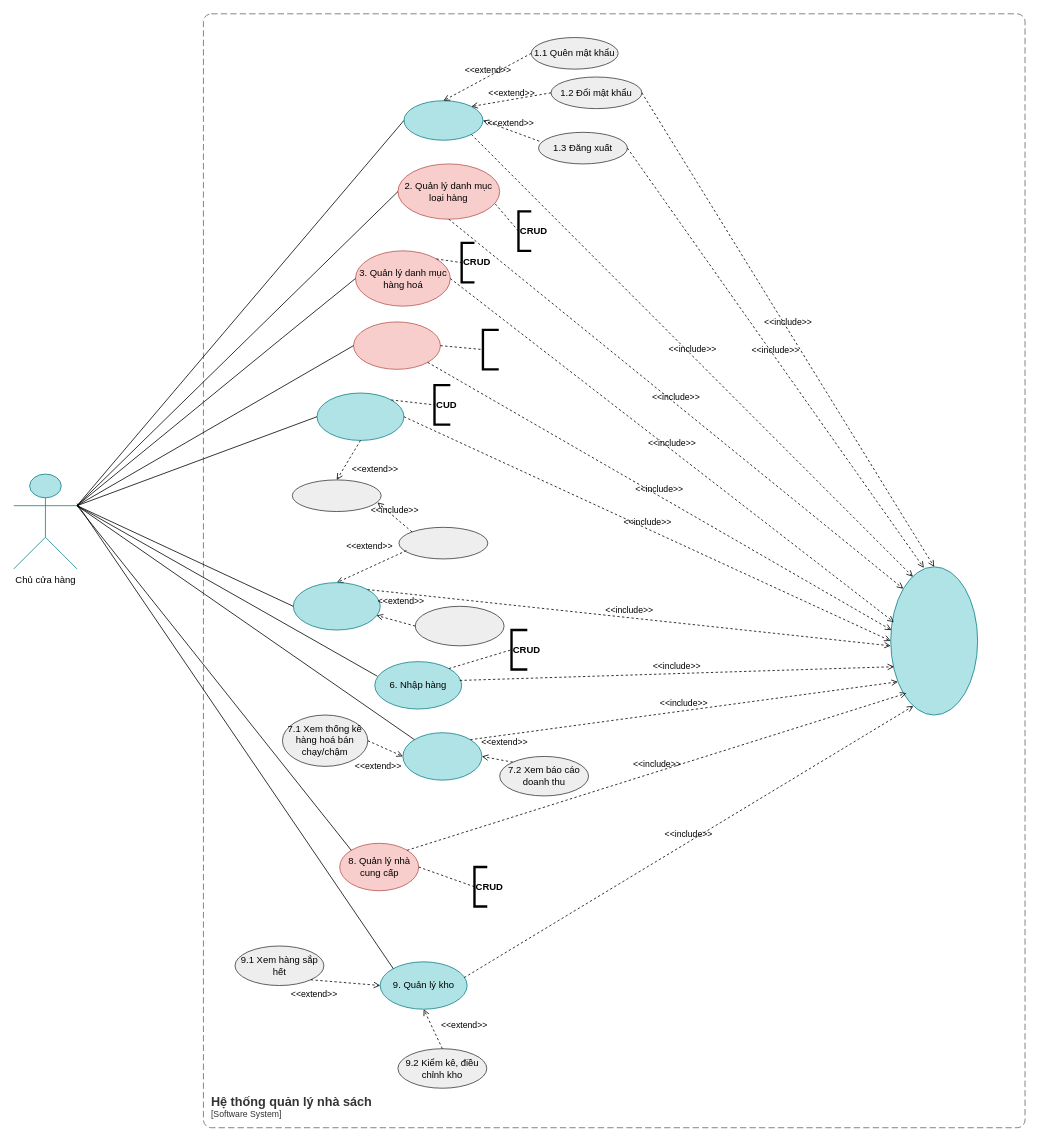
This 1039x1142 diagram has some shape labels left out. Each missing label, with the centre of its shape:
"1. Quản lý tài khoản" belongs at pixel 443 120.
"10. Quản lý trả hàng" belongs at pixel 336 606.
"10.1 Tạo phiếu trả hàng" belongs at pixel 443 543.
"10.2 Xem phiếu trả hàng" belongs at pixel 459 626.
"11. Đăng nhập" belongs at pixel 934 640.
"4. Quản lý khách hàng" belongs at pixel 396 345.
"5. Bán hàng" belongs at pixel 360 416.
"5.1 Tìm kiếm hoá đơn bán" belongs at pixel 336 495.
"7. Xem báo cáo, thống kê" belongs at pixel 442 756.
"CRU" belongs at pixel 490 349.
